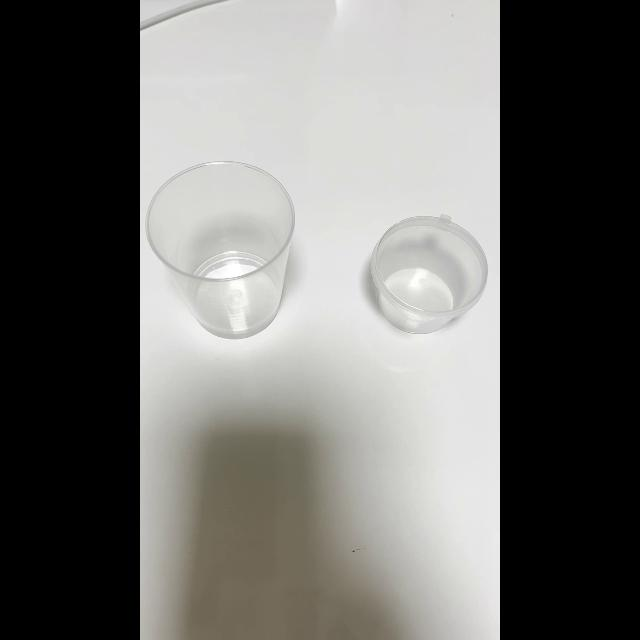clean: (147, 162, 296, 336), (370, 214, 490, 332)
